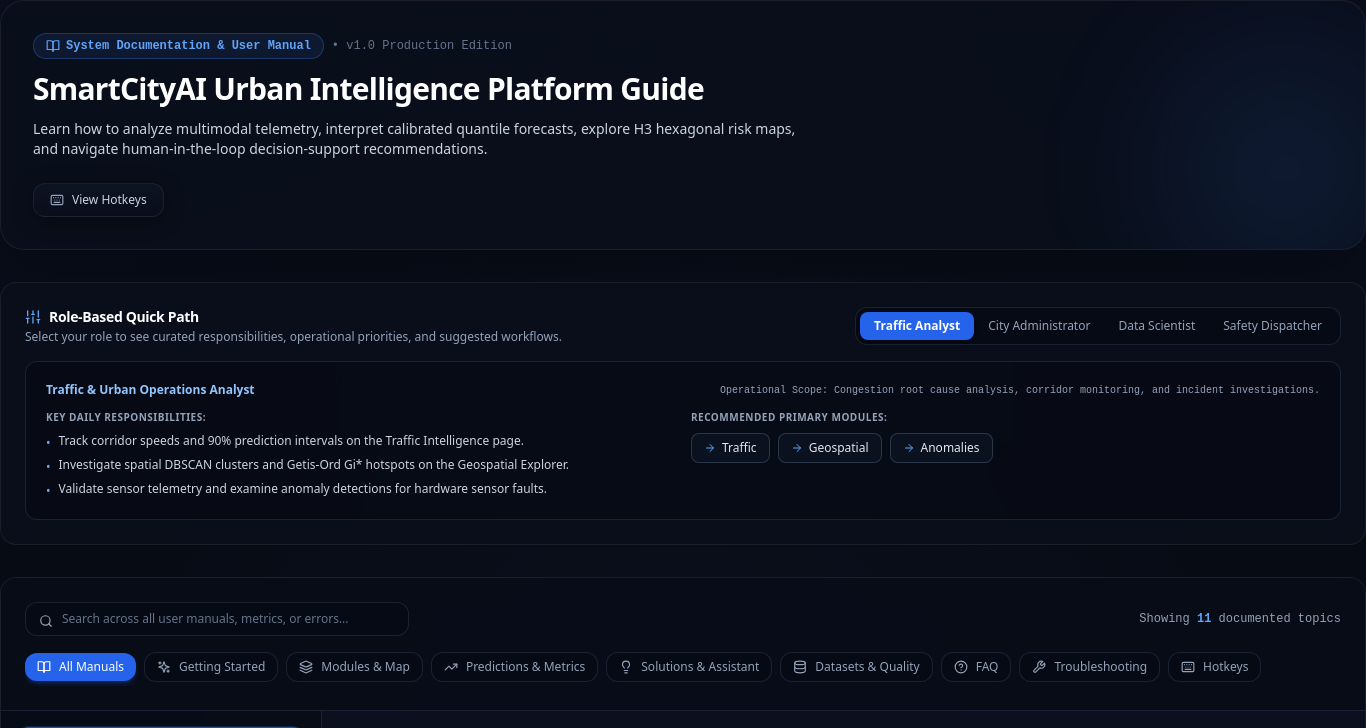
User Guidance & Help Components › renders DocumentationCenterPage and switches roles
Expected: the heading "SmartCityAI Urban Intelligence Platform Guide" is shown, [33,71,801,107]
# Switch role to City Administrator
What coordinates should you click on to do the following:
click the button "City Administrator"
I would click on:
 (1039, 326)
Its box is [974,312,1104,340].
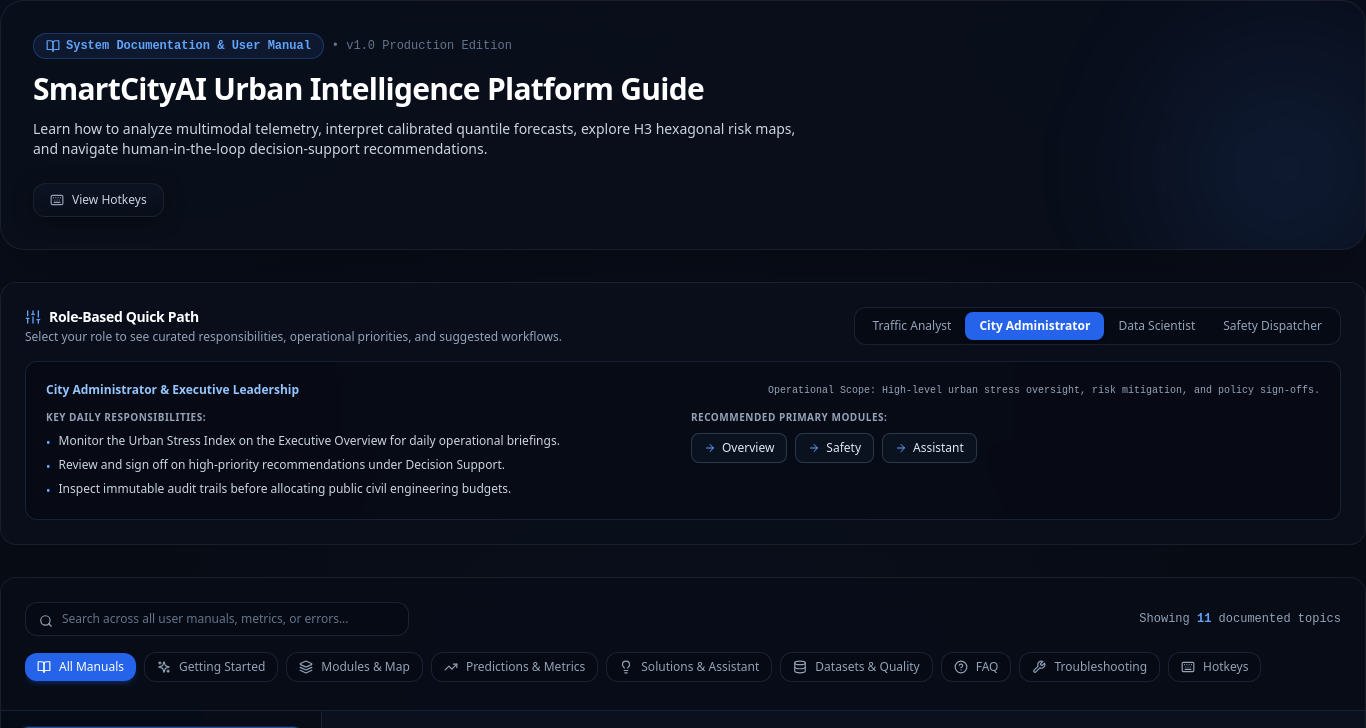
Result: the heading "City Administrator & Executive Leadership" is shown at [46,382,299,398]
